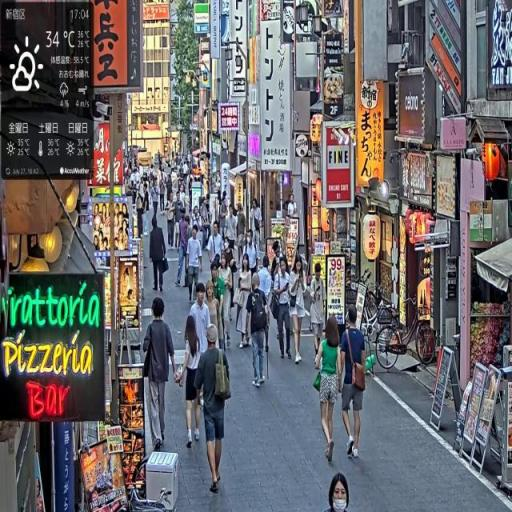person: (194, 323, 233, 496), (143, 297, 181, 453), (313, 315, 343, 466), (339, 308, 368, 463), (245, 272, 271, 388), (288, 256, 308, 367), (273, 257, 294, 362), (310, 262, 326, 367), (150, 218, 169, 295), (186, 226, 203, 308), (177, 211, 192, 288), (208, 223, 226, 275), (328, 473, 352, 512), (236, 203, 248, 272), (167, 194, 177, 251)
